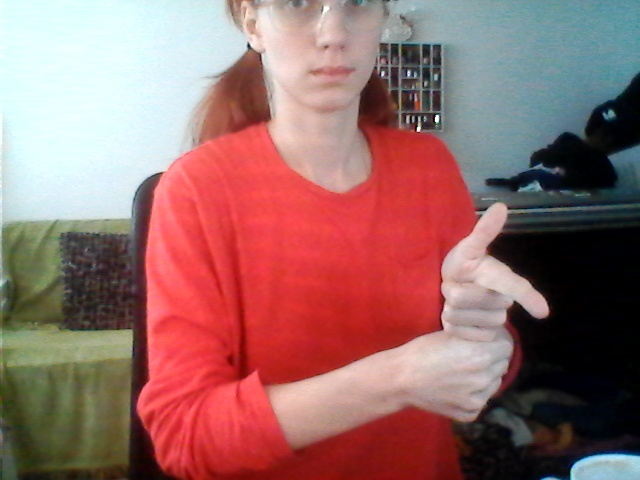kamera: (414, 198, 557, 442)
